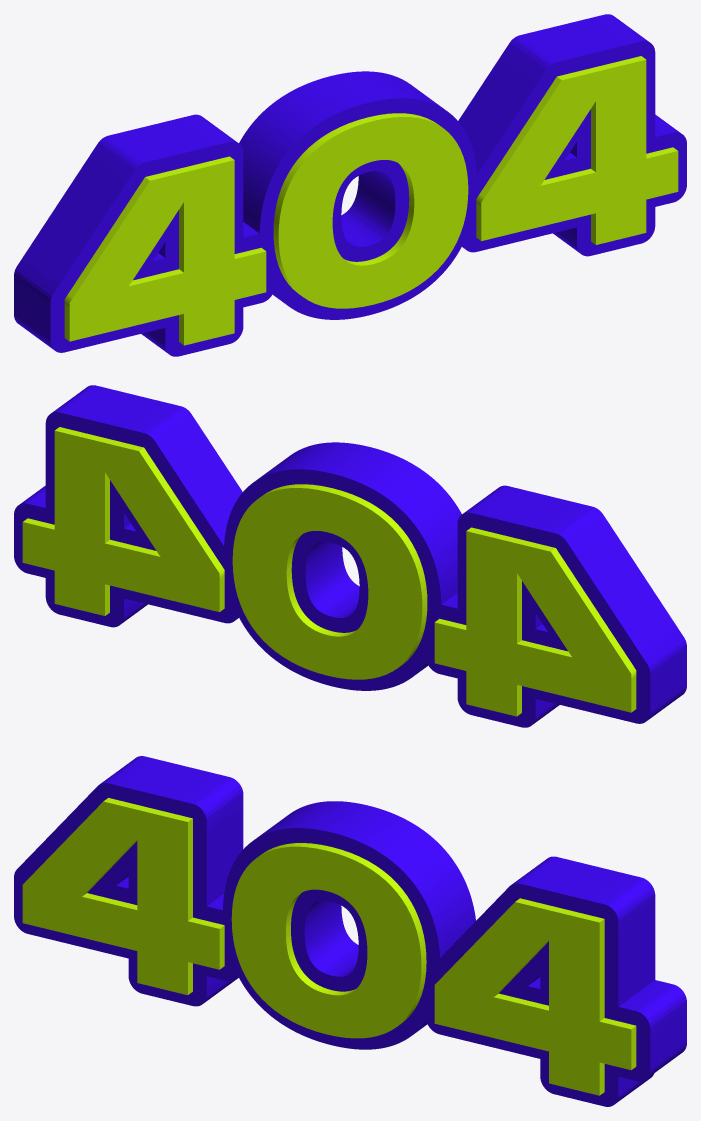
3 renders of one model, top to bottom at view 1: azimuth 30°, elevation 25°; view 2: azimuth 150°, elevation 25°; view 3: azimuth 330°, elevation 25°, orthographic.
Size of the model in its own units: 2 by 0.6391 by 0.255.
